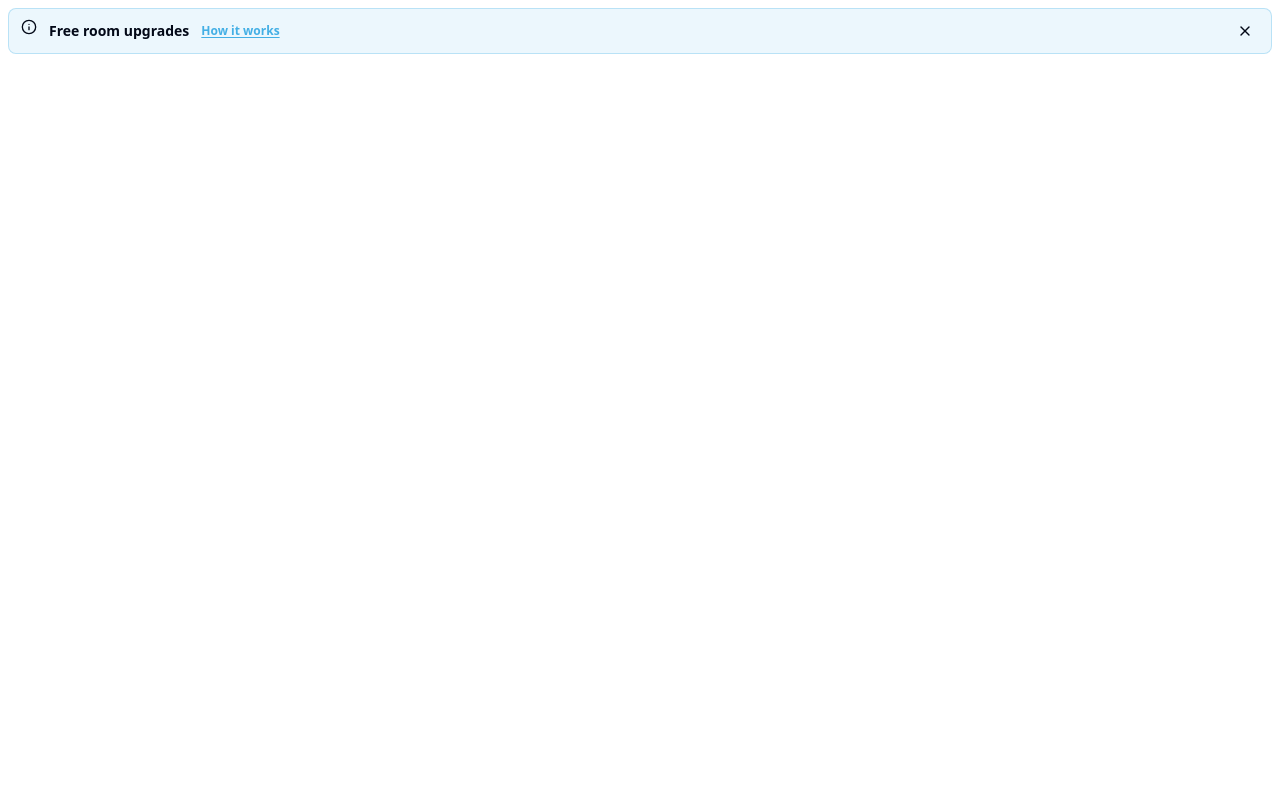
compact system announcement acknowledgement › acknowledges and dismisses the selected announcement on Got it
Opening the explanation is not an acknowledgement.
Click the button "How it works" at coordinates (240, 31), box 201,17 -> 280,45
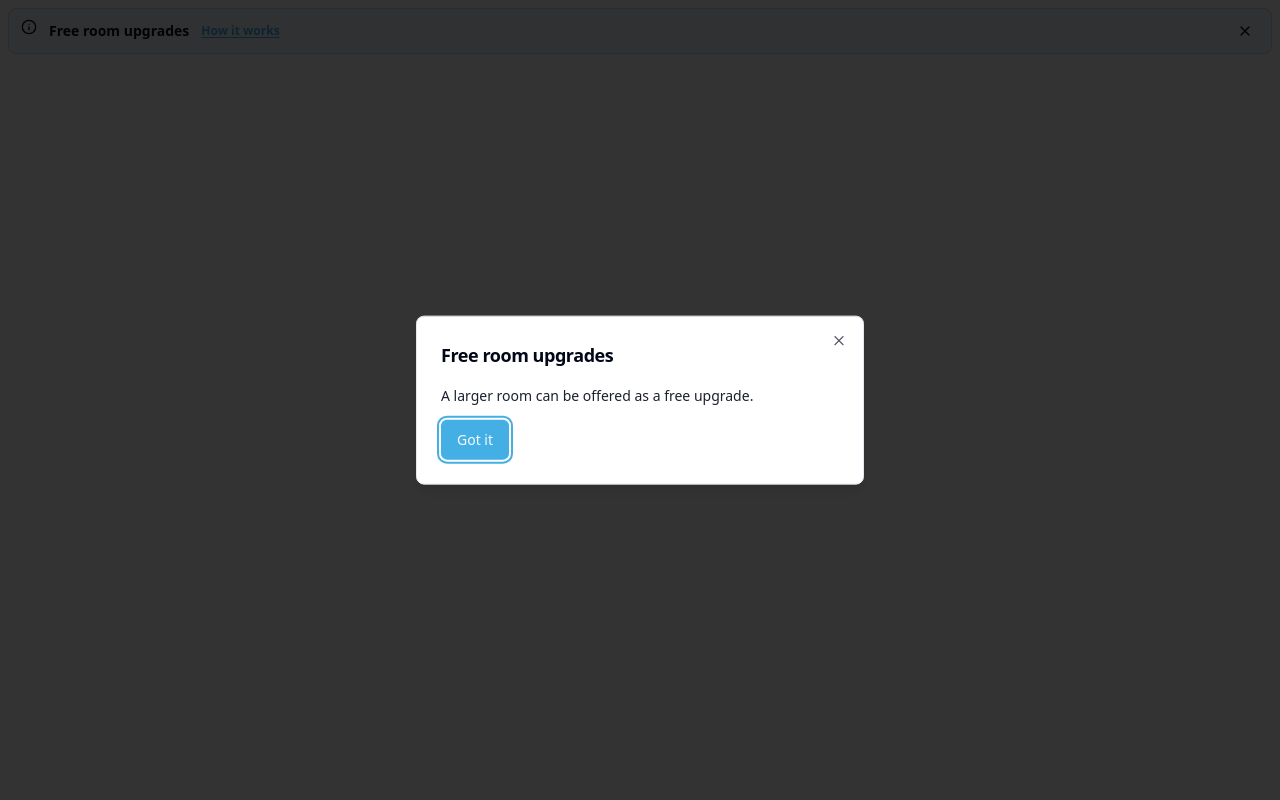
Result: the text "A larger room can be offered as a free upgrade." is shown at 441,386 -> 753,405
Click the button "Got it" at coordinates (475, 439), box 441,419 -> 509,459
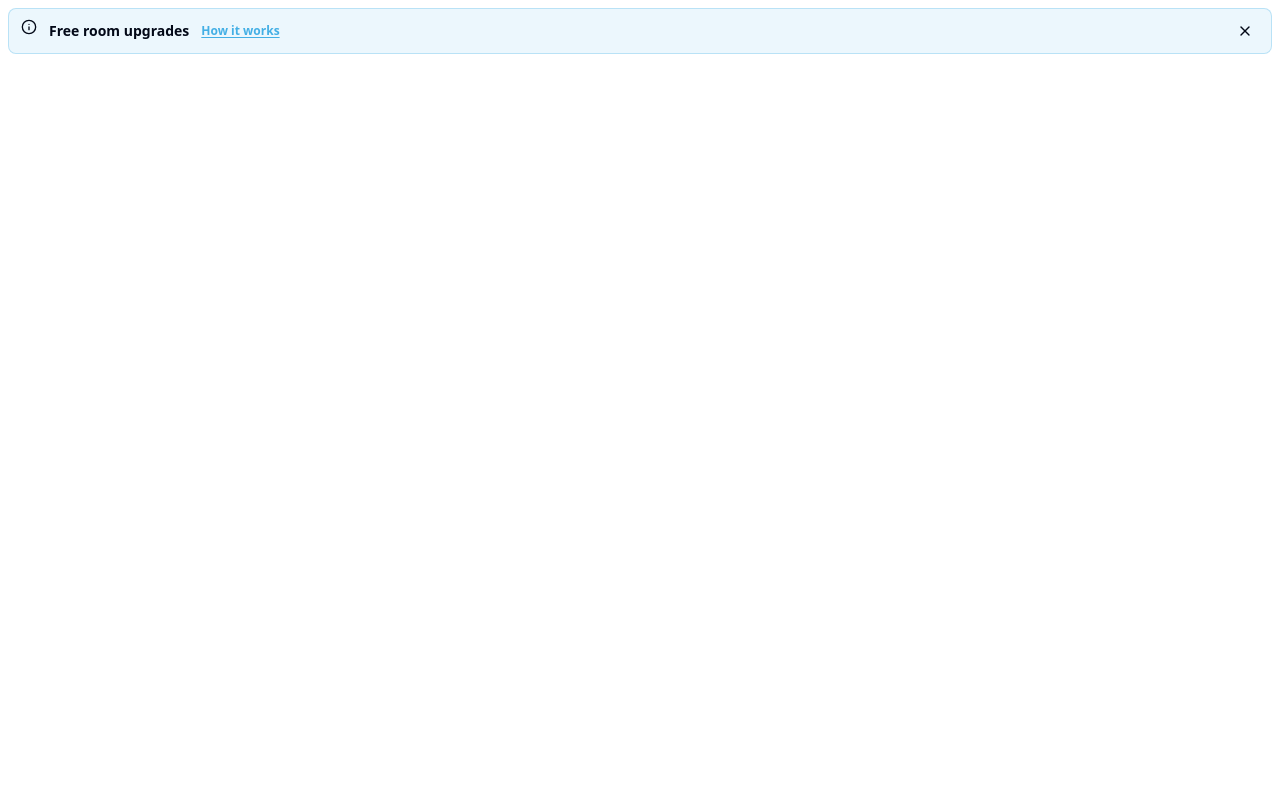
Result: the button "Got it" is gone
